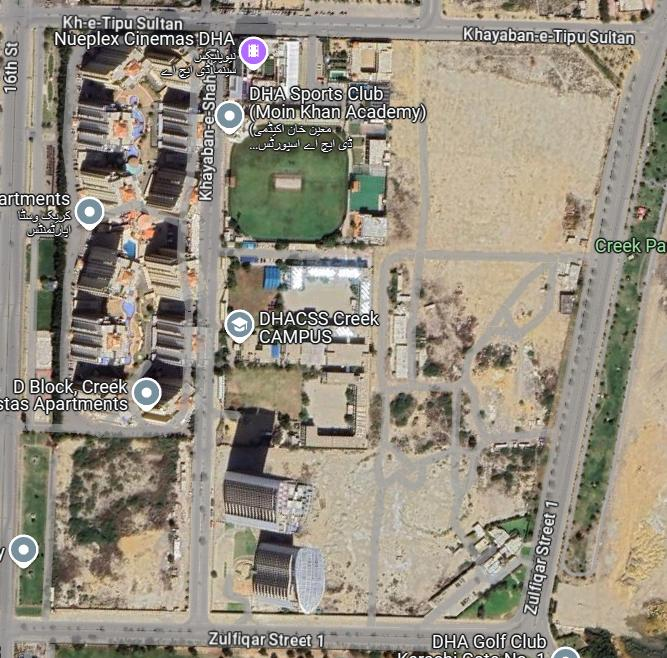Buildings: (209, 259, 581, 622), (25, 29, 201, 609), (229, 36, 637, 250)
